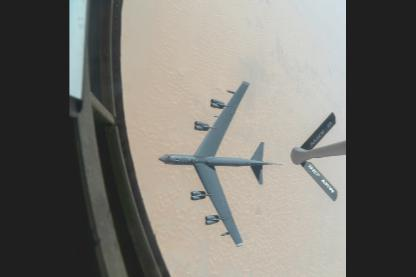B2: (158, 78, 283, 244)
